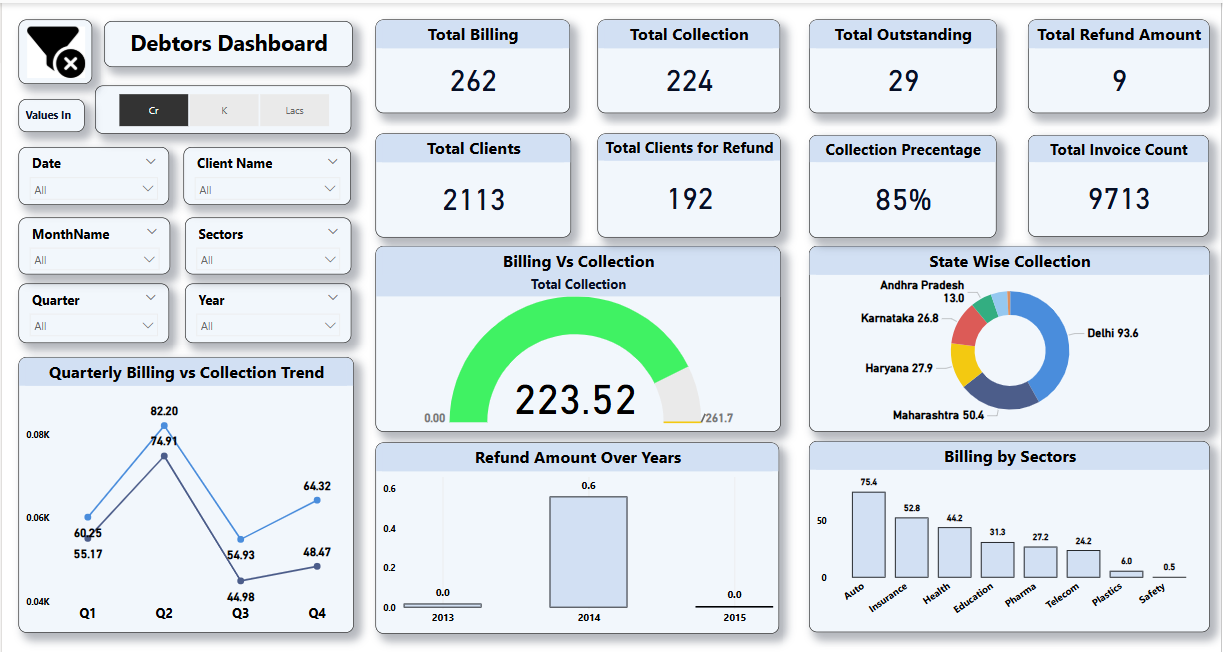

This screenshot's page, from the dashboard's own definition file:
{"tool":"powerbi","page":{"name":"Debtors","canvas":[1500,800],"ordinal":0},"visuals":[{"type":"card","title":"Total Billing","fields":{"Values":["Currency_Conversion.CurrencySwitch"]},"box":[459.1,20.6,239.1,115.6],"z":0},{"type":"card","title":"Total Collection","fields":{"Values":["Currency_Conversion.CurrencySwitchCollection"]},"box":[733,20.6,224.8,115.6],"z":1000},{"type":"card","title":"Total Refund Amount","fields":{"Values":["Currency_Conversion.CurrencySwitchCollectionCreditNote"]},"box":[1261.9,20.6,223.2,115.6],"z":2000},{"type":"card","title":"Total Outstanding","fields":{"Values":["Currency_Conversion.CurrencySwitchOutstanding"]},"box":[992.7,20.6,231.2,115.6],"z":3000},{"type":"card","title":"Total Clients","fields":{"Values":["Count(Outstanding Table.Client Name)"]},"box":[459.1,159.9,240.7,128.2],"z":4000},{"type":"gauge","title":"Billing Vs Collection","fields":{"Y":["Currency_Conversion.CurrencySwitchCollection"],"MaxValue":["Currency_Conversion.CurrencySwitch"],"TargetValue":["Currency_Conversion.CurrencySwitch"]},"box":[459.5,298.8,498.5,229],"z":5000},{"type":"textbox","box":[125.8,21.4,306.2,57],"z":6000},{"type":"card","title":"Total Clients for Refund","fields":{"Values":["Count(Credit Note.Client Name)"]},"box":[732.9,159.7,225.4,127.8],"z":7000},{"type":"donutChart","title":"State Wise Collection","fields":{"Category":["Outstanding Table.State"],"Y":["Currency_Conversion.CurrencySwitchCollection"]},"box":[992.2,298.8,493.7,229],"z":8000},{"type":"card","title":"Collection Precentage","fields":{"Values":["Collection Table.CollectionPrecen"]},"box":[992.2,162.4,230.6,126.7],"z":9000},{"type":"columnChart","title":"Refund Amount Over Years","fields":{"Y":["Currency_Conversion.CurrencySwitchCreditNote"],"Category":["Calendar.Year"]},"box":[459.5,540.7,496.9,235.5],"z":10000},{"type":"columnChart","title":"Billing by Sectors","fields":{"Category":["Invoices Table.Sectors"],"Y":["Currency_Conversion.CurrencySwitch"]},"box":[992.2,539.1,493.7,235.5],"z":11000},{"type":"card","title":"Total Invoice Count","fields":{"Values":["Count(Invoices Table.Invoice No.)"]},"box":[1261.7,162.4,222.5,125],"z":12000},{"type":"slicer","fields":{"Values":["Calendar.Date"]},"box":[21.1,177,185.1,71.4],"z":13000},{"type":"slicer","fields":{"Values":["Calendar.MonthName"]},"box":[19.5,264.7,186.7,69.8],"z":14000},{"type":"slicer","fields":{"Values":["Calendar.Quarter"]},"box":[21.1,344.3,185.1,73.1],"z":15000},{"type":"slicer","fields":{"Values":["Calendar.Year"]},"box":[225.7,344.3,204.6,73.1],"z":16000},{"type":"slicer","fields":{"Values":["Credit Note.Client Name"]},"box":[224.1,177,206.2,71.4],"z":17000},{"type":"slicer","fields":{"Values":["Outstanding Table.Sectors"]},"box":[225.7,264.7,204.6,69.8],"z":18000},{"type":"lineChart","title":"Quarterly Billing vs Collection Trend","fields":{"Category":["Calendar.Quarter"],"Y":["Currency_Conversion.CurrencySwitch","Currency_Conversion.CurrencySwitchCollection"]},"box":[19.5,435.2,412.5,339.4],"z":20000},{"type":"image","box":[21.1,21.1,90.9,79.6],"z":21000},{"type":"slicer","fields":{"Values":["Currency_Conversion.Currency"]},"box":[113.9,102.1,315.7,59.3],"z":22000},{"type":"textbox","box":[19.5,118.5,81.2,40.6],"z":23000}]}

Visuals, with their boxes in screenshot pixels (x1, y1, x2, y2), scaled from the page's 1500x800 canvas onto the 1223x652 screenshot:
"Total Billing" card: l=374, t=17, r=569, b=111
"Total Collection" card: l=598, t=17, r=781, b=111
"Total Refund Amount" card: l=1029, t=17, r=1211, b=111
"Total Outstanding" card: l=809, t=17, r=998, b=111
"Total Clients" card: l=374, t=130, r=571, b=235
"Billing Vs Collection" gauge: l=375, t=244, r=781, b=430
textbox: l=103, t=17, r=352, b=64
"Total Clients for Refund" card: l=598, t=130, r=781, b=234
"State Wise Collection" donutChart: l=809, t=244, r=1212, b=430
"Collection Precentage" card: l=809, t=132, r=997, b=236
"Refund Amount Over Years" columnChart: l=375, t=441, r=780, b=633
"Billing by Sectors" columnChart: l=809, t=439, r=1212, b=631
"Total Invoice Count" card: l=1029, t=132, r=1210, b=234
slicer - Calendar.Date: l=17, t=144, r=168, b=202
slicer - Calendar.MonthName: l=16, t=216, r=168, b=273
slicer - Calendar.Quarter: l=17, t=281, r=168, b=340
slicer - Calendar.Year: l=184, t=281, r=351, b=340
slicer - Credit Note.Client Name: l=183, t=144, r=351, b=202
slicer - Outstanding Table.Sectors: l=184, t=216, r=351, b=273
"Quarterly Billing vs Collection Trend" lineChart: l=16, t=355, r=352, b=631
image: l=17, t=17, r=91, b=82
slicer - Currency_Conversion.Currency: l=93, t=83, r=350, b=132
textbox: l=16, t=97, r=82, b=130
